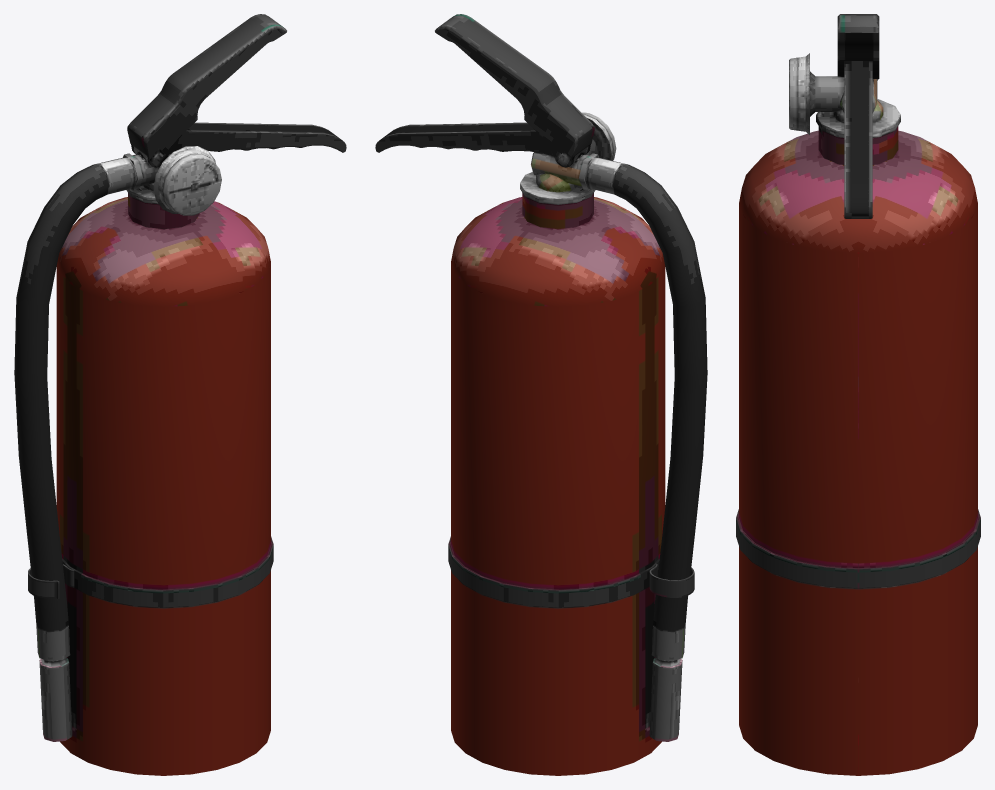
The model's file is extinguisher.dae.
3 renders of one model, left to right at view 1: azimuth 30°, elevation 25°; view 2: azimuth 150°, elevation 25°; view 3: azimuth 270°, elevation 25°, orthographic. The views are drawn at different scales.
Visible parts, largest first — view 1: Extinguisher; view 2: Extinguisher; view 3: Extinguisher.
Part boxes in pixels (x1,y1,x2,y2): Extinguisher: (14, 14, 346, 775); Extinguisher: (375, 14, 707, 775); Extinguisher: (736, 14, 980, 775).
Size of the model in its own units: 21.2 by 12.45 by 42.84.
Materials: 1 (1 with a texture image).
